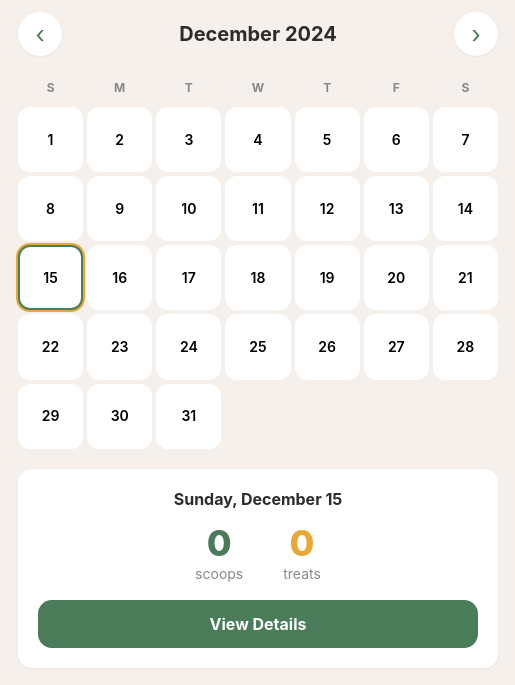
Test: Calendar › next from December wraps to following January
Expected: the heading "December 2024" is shown, left=179, top=22, right=337, bottom=46
Click the button named "Next month" at (476, 34), box left=454, top=12, right=498, bottom=56
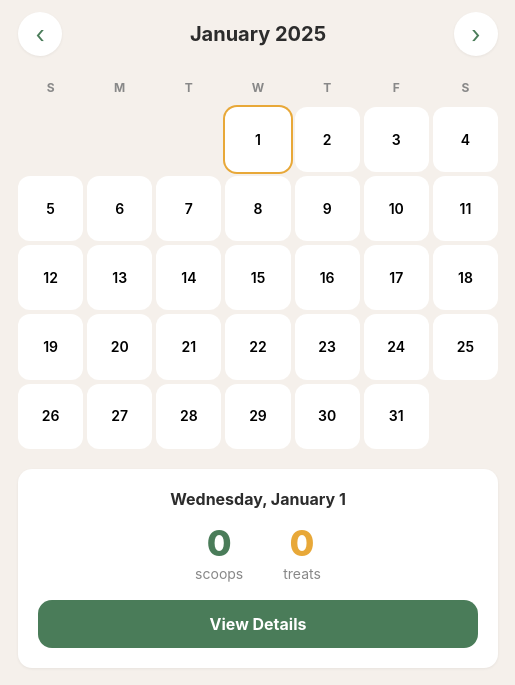
Expected: the heading "January 2025" is shown, left=190, top=22, right=326, bottom=46
